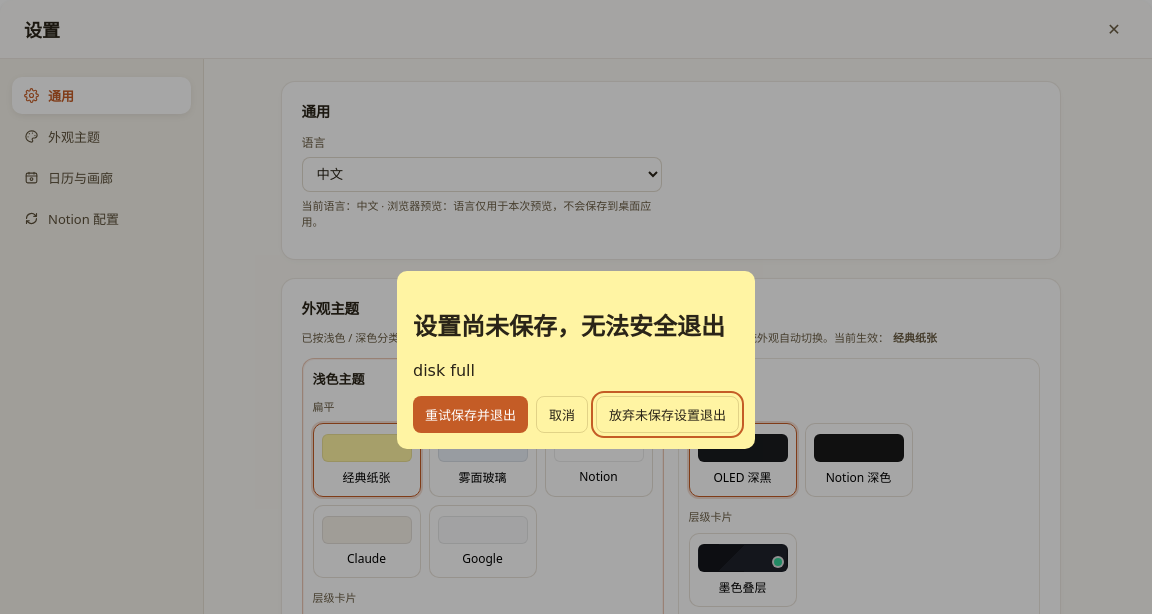
Scenario: makes the exit failure keyboard-modal, retains busy feedback, and cancels without a late reopen
Step 1. Press Tab in the button "放弃未保存设置退出", box left=596, top=396, right=739, bottom=433
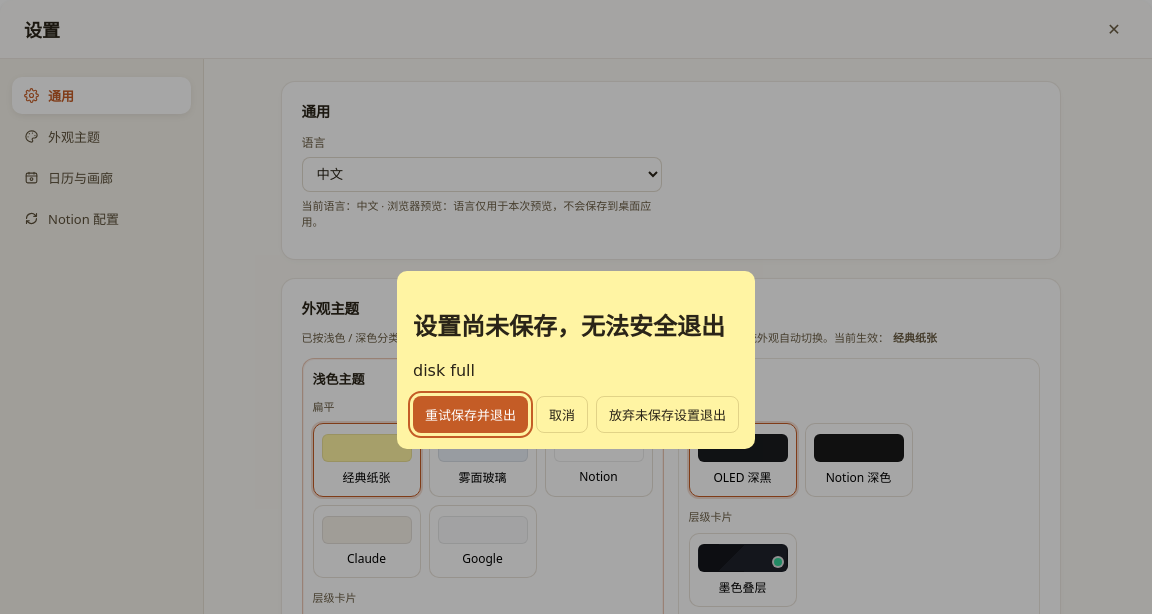
Step 2. Click the button "重试保存并退出" → click(470, 415), box left=413, top=396, right=528, bottom=433
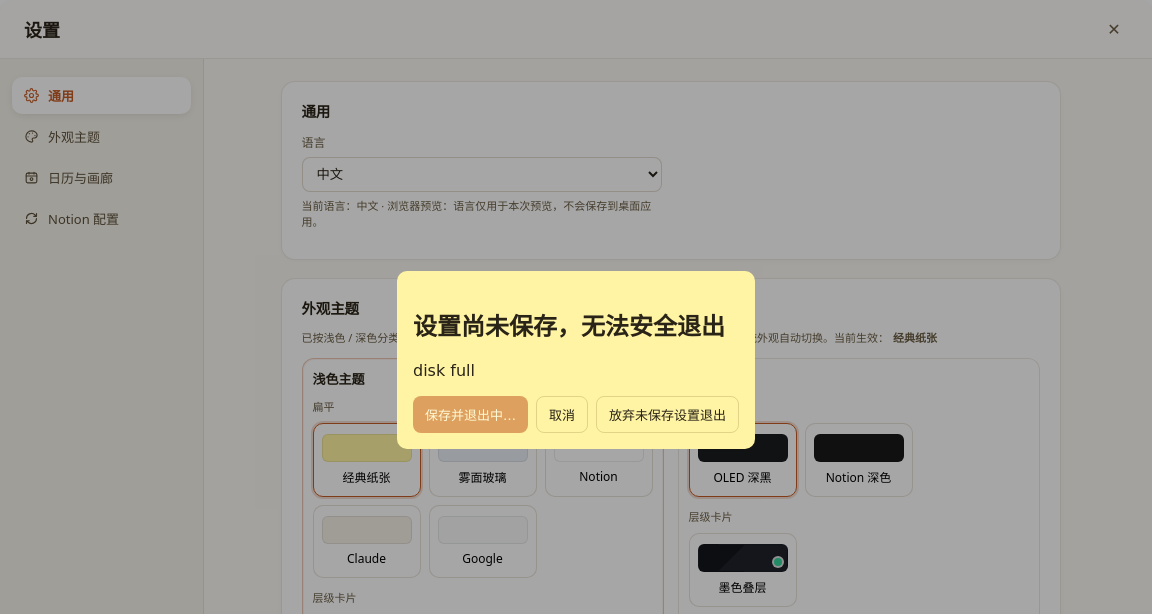
Expected: the button "放弃未保存设置退出" is disabled, left=596, top=396, right=739, bottom=433
Result: the button "保存并退出中…" is disabled at left=413, top=396, right=528, bottom=433
Step 3. Press Escape in the dialog, box left=397, top=271, right=755, bottom=449
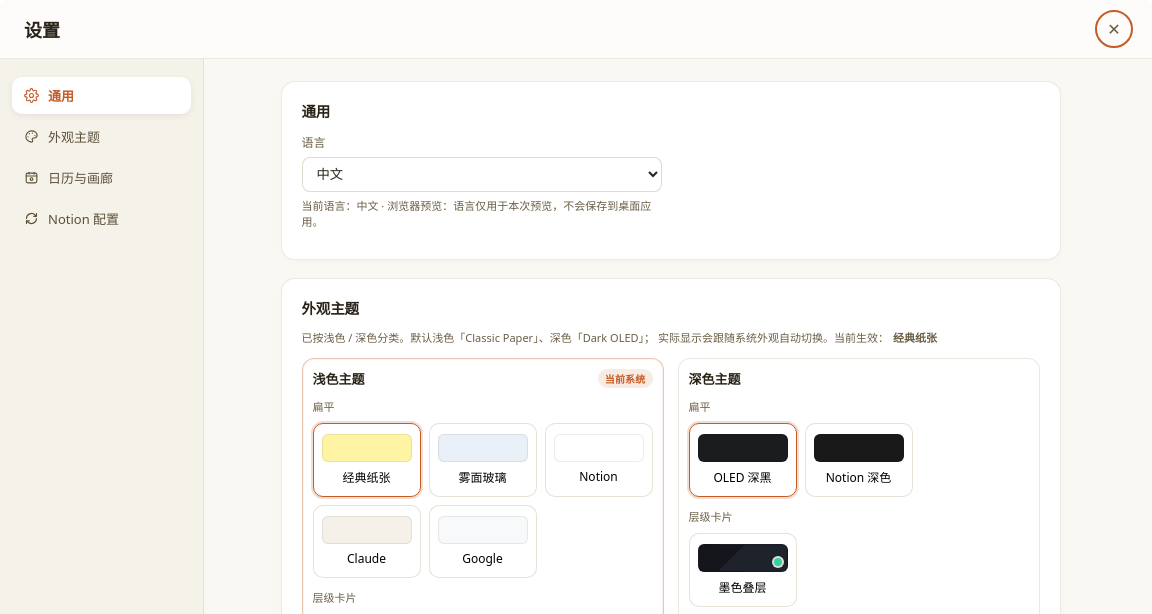
Result: the dialog is gone
